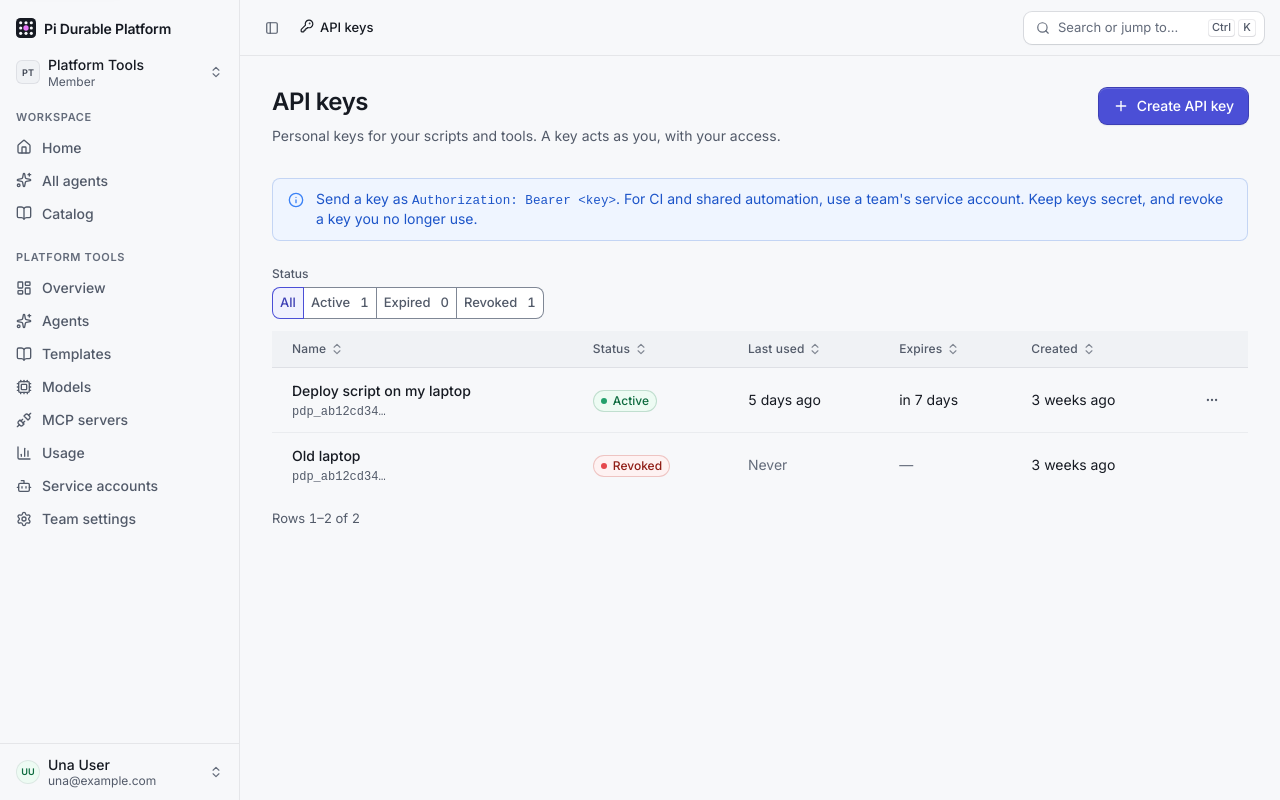
Test: API keys › shows the secret once after creating a key, and never again
The width and height of the screenshot is (1280, 800).
Click the button "Create API key": (1173, 106) x1=1099 y1=88 x2=1248 y2=124
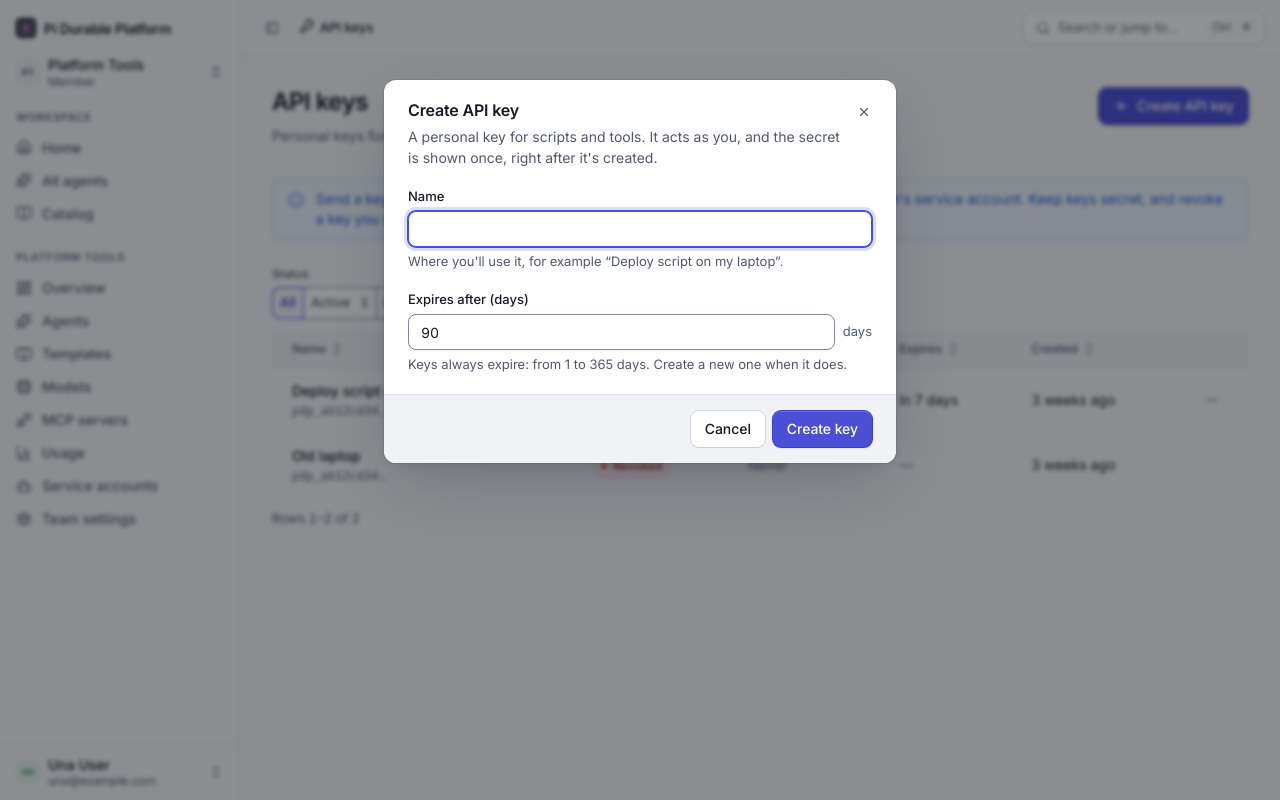
Expected: the field labelled "Expires after (days)" holds "90", x1=408 y1=314 x2=835 y2=350
Click the button "Create key": (822, 429) x1=773 y1=411 x2=872 y2=447
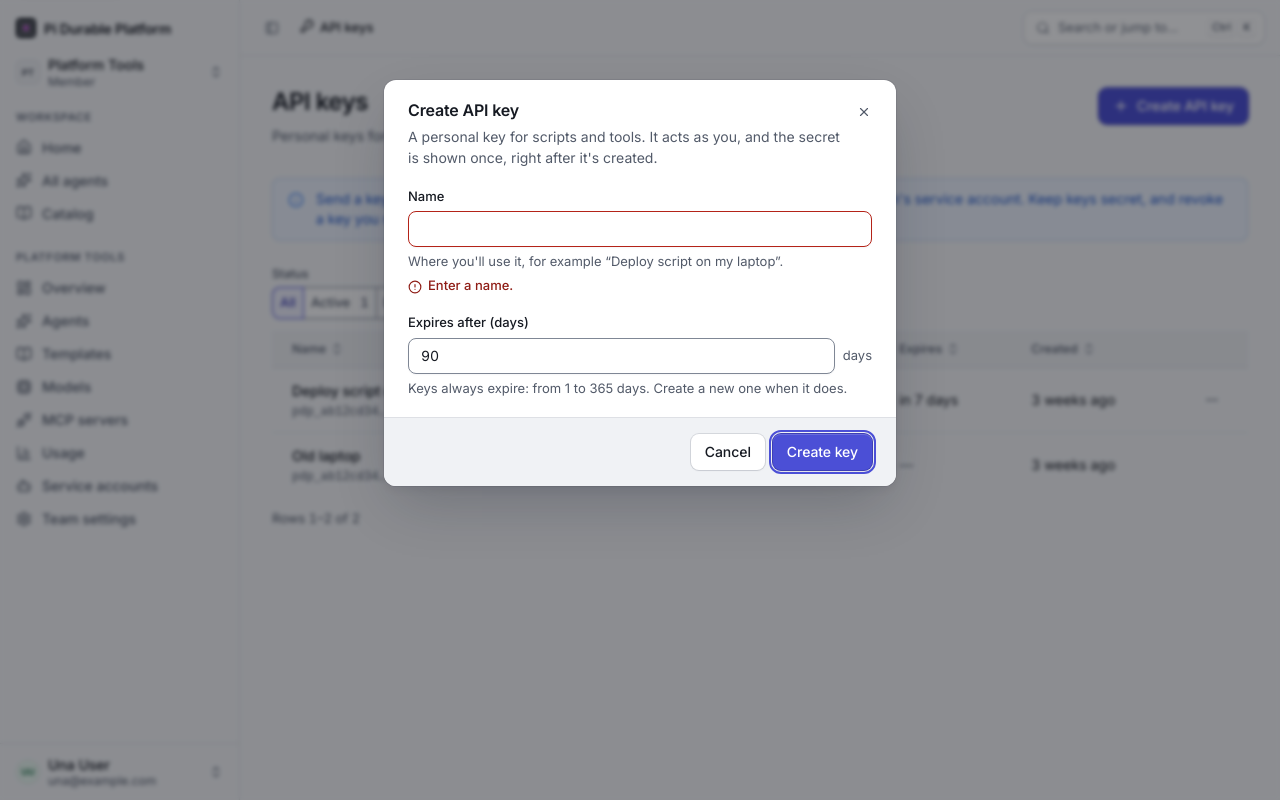
Expected: the text "Enter a name." is shown, x1=428 y1=277 x2=513 y2=294
In the field labelled "Name": (640, 229) x1=408 y1=211 x2=872 y2=247, type "CI runner"
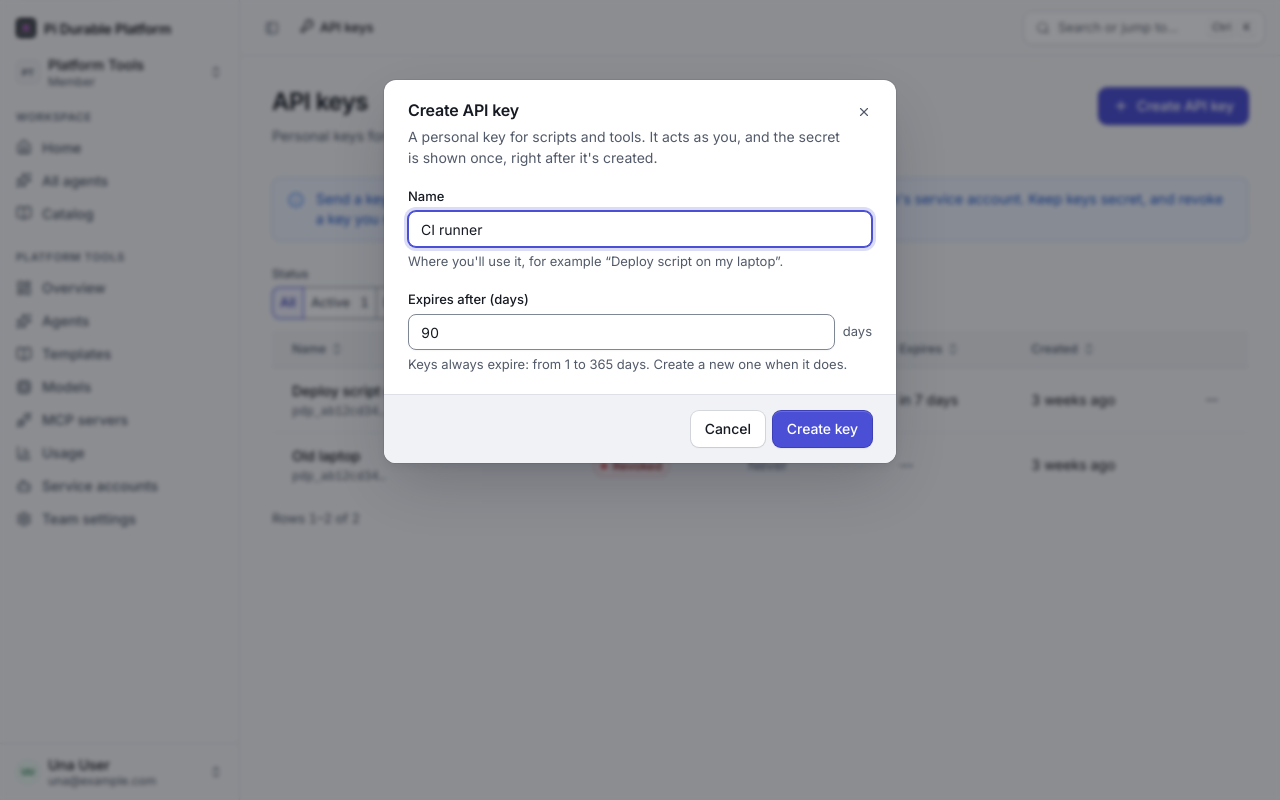
Click the button "Create key": (822, 429) x1=773 y1=411 x2=872 y2=447
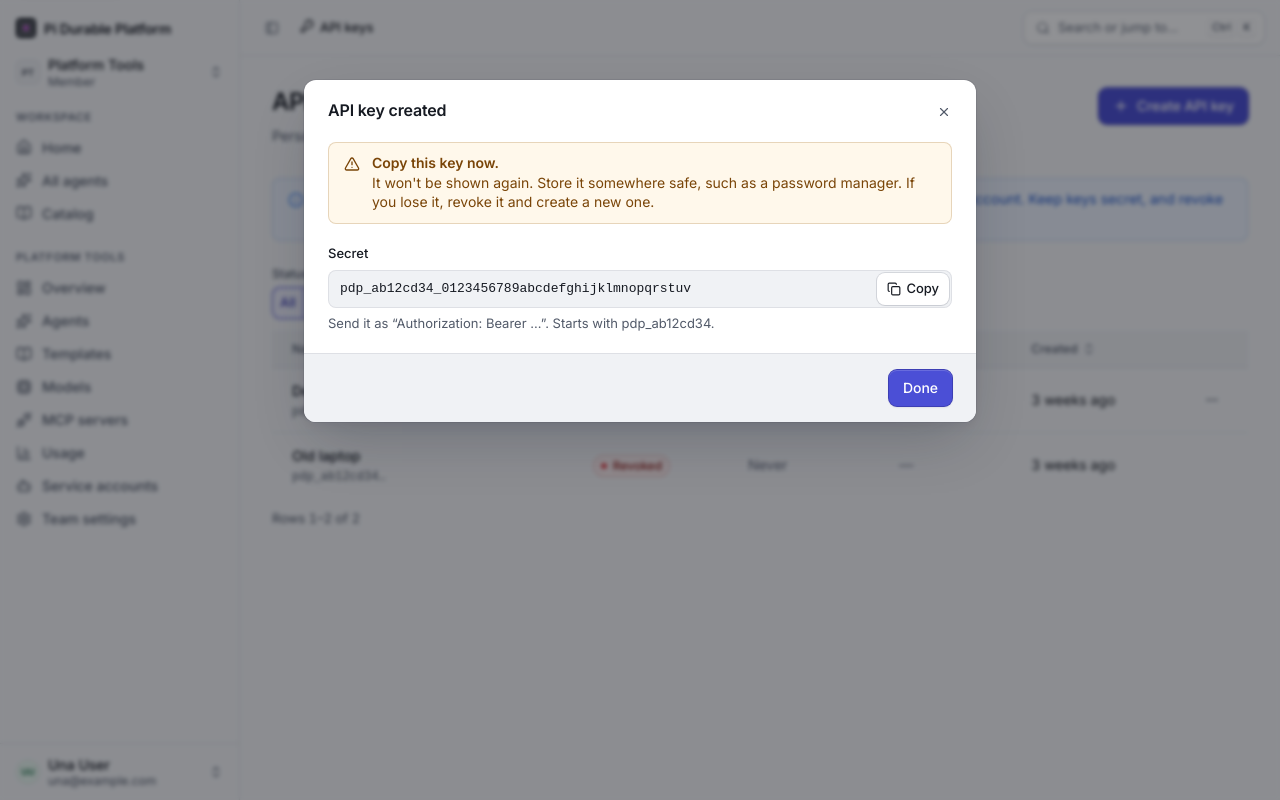
Expected: the text "Copy this key now." is shown, x1=372 y1=154 x2=499 y2=171
Expected: the text "It won't be shown again" is shown, x1=372 y1=174 x2=915 y2=210
Expected: the text "pdp_ab12cd34_0123456789abcdefghijklmnopqrstuv" is shown, x1=340 y1=281 x2=691 y2=296
Click the button "Done": (921, 388) x1=889 y1=370 x2=952 y2=406
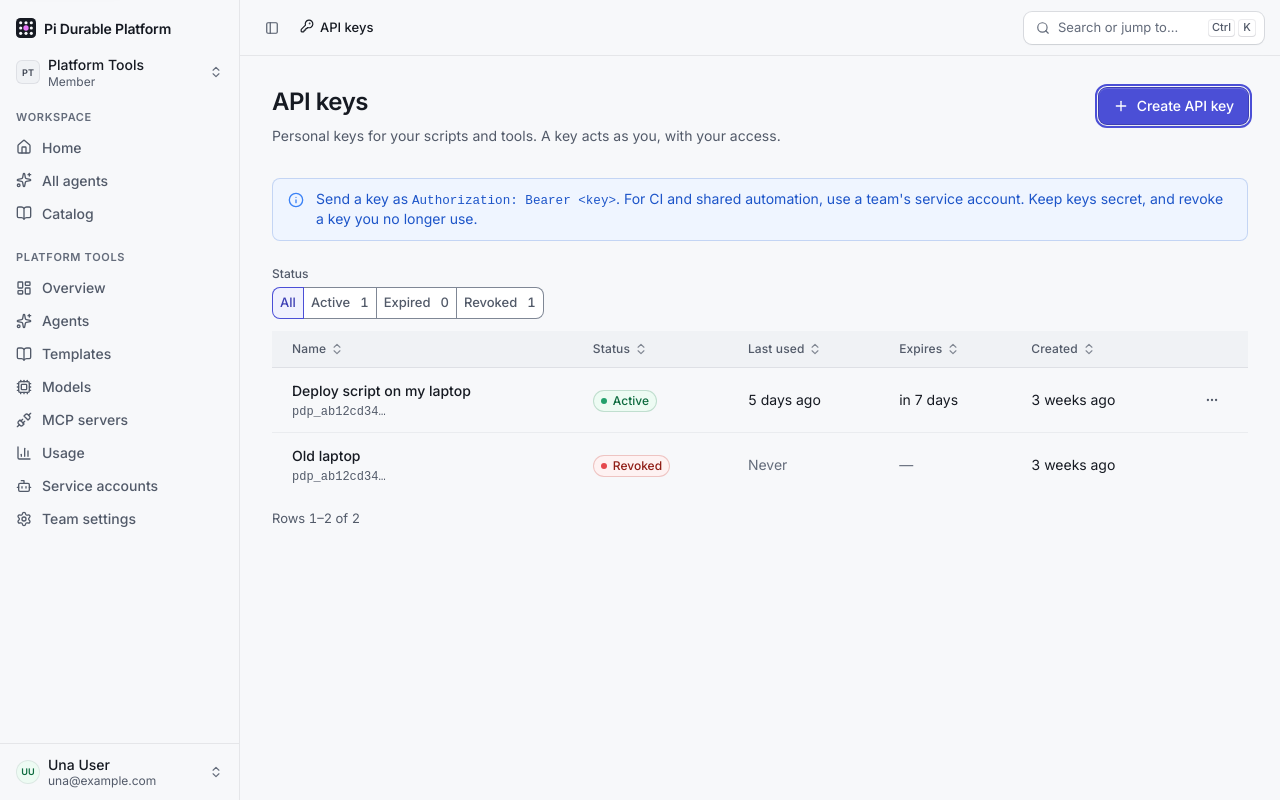
Expected: the heading "API key created" is gone
Expected: the text "pdp_ab12cd34_0123456789abcdefghijklmnopqrstuv" is gone
Opening Create again starts over: the old secret is gone.
Click the button "Create API key": (1173, 106) x1=1099 y1=88 x2=1248 y2=124
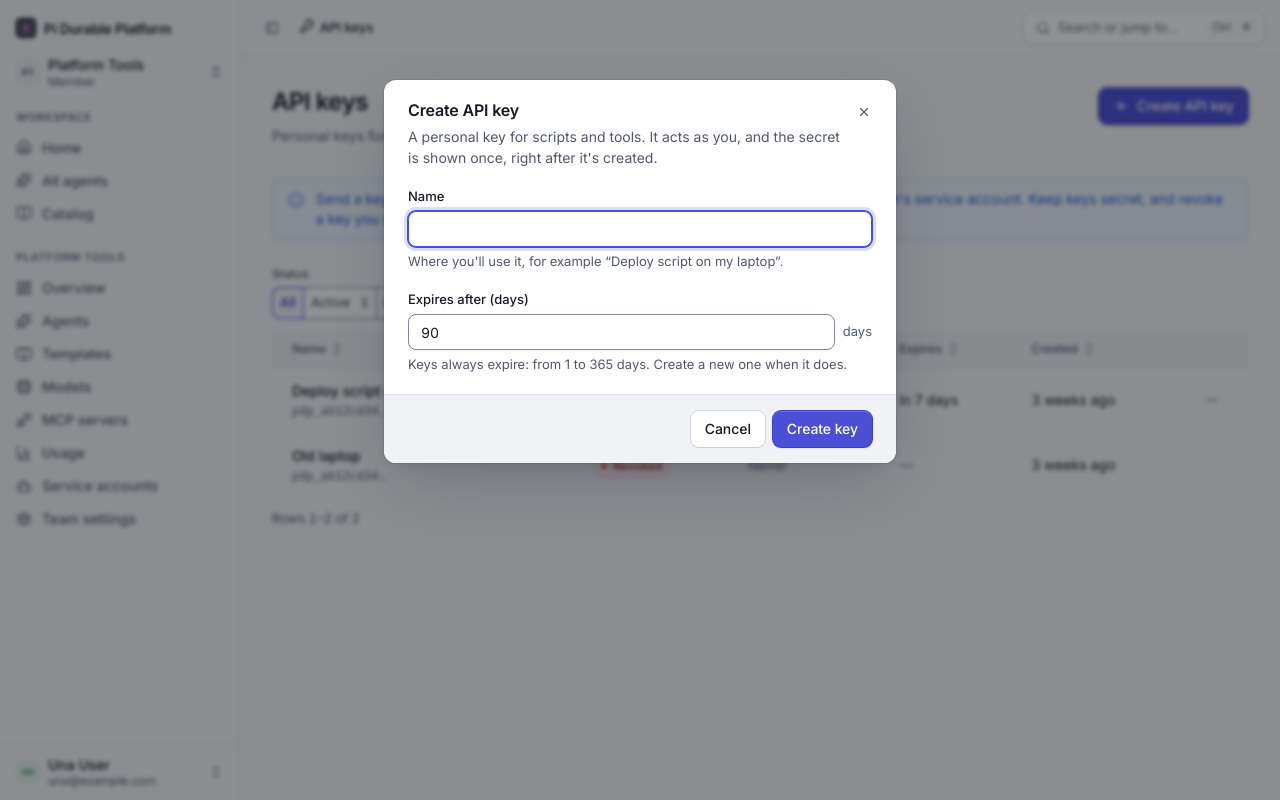
Expected: the text "pdp_ab12cd34_0123456789abcdefghijklmnopqrstuv" is not shown
Expected: the dialog "Create API key" is shown, x1=384 y1=80 x2=896 y2=463
